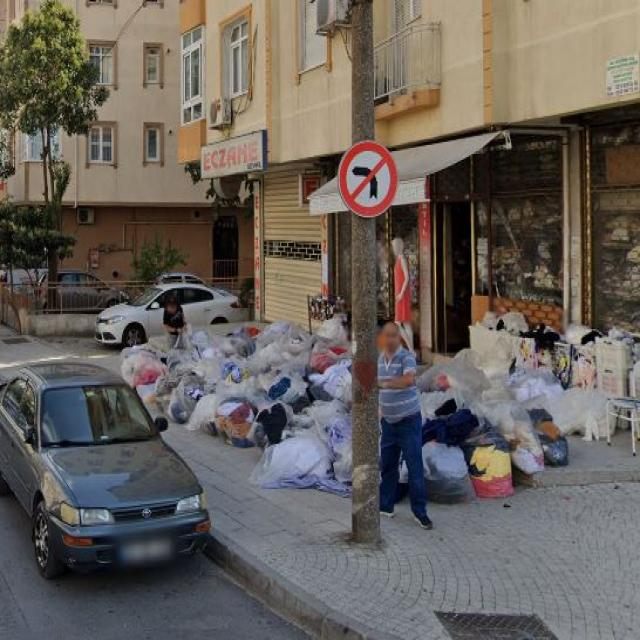soladonulmez: (339, 140, 397, 216)
